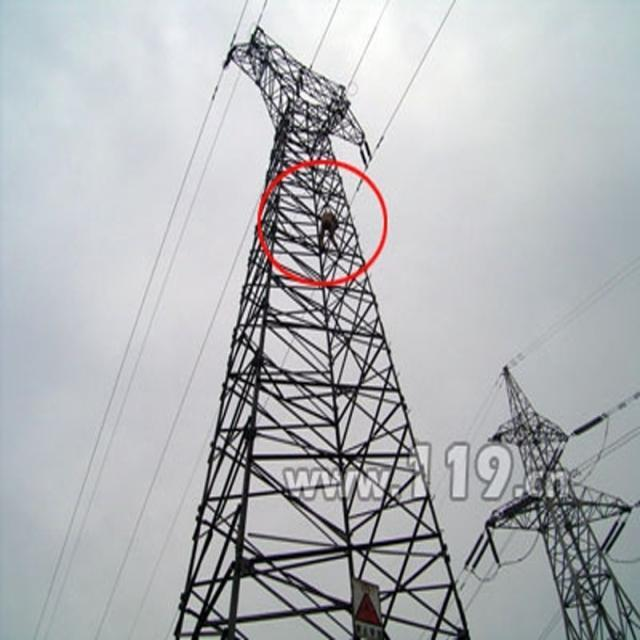non-critical vegetation: (197, 32, 458, 634), (492, 356, 630, 632)
